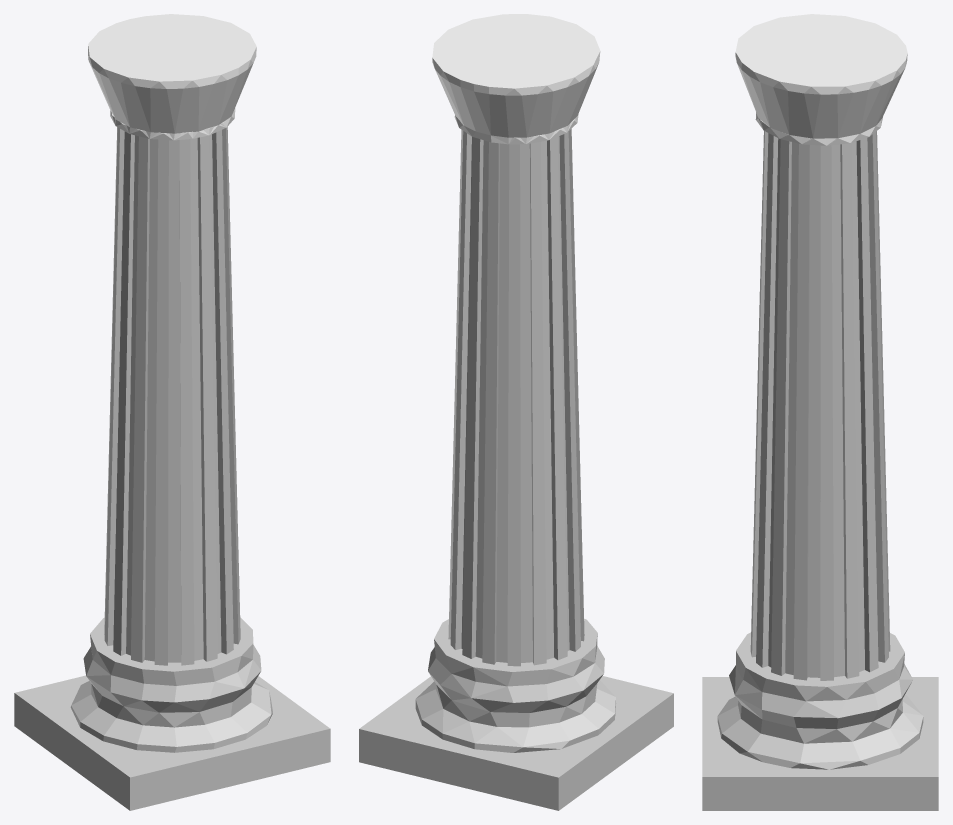
The model's file is column.fbx.
3 views of the same model, side by side, from view 1: azimuth 30°, elevation 25°; view 2: azimuth 150°, elevation 25°; view 3: azimuth 270°, elevation 25° (orthographic). The views are drawn at different scales.
Visible parts, largest first — view 1: Cylinder, Cube, Cylinder.001, Cylinder.002; view 2: Cylinder, Cube, Cylinder.002, Cylinder.001; view 3: Cylinder, Cylinder.001, Cylinder.002, Cube.
Boxes of the visible parts, x1,y1,x2,y2 form: Cylinder: [104, 127, 240, 665]; Cube: [14, 675, 330, 810]; Cylinder.001: [70, 617, 272, 752]; Cylinder.002: [88, 14, 256, 140]; Cylinder: [448, 129, 584, 666]; Cube: [359, 676, 673, 810]; Cylinder.002: [432, 14, 600, 144]; Cylinder.001: [415, 618, 615, 752]; Cylinder: [750, 131, 890, 680]; Cylinder.001: [717, 632, 923, 769]; Cylinder.002: [735, 14, 907, 145]; Cube: [702, 677, 938, 810].
Size of the model in its own units: 338 by 1125 by 338.
